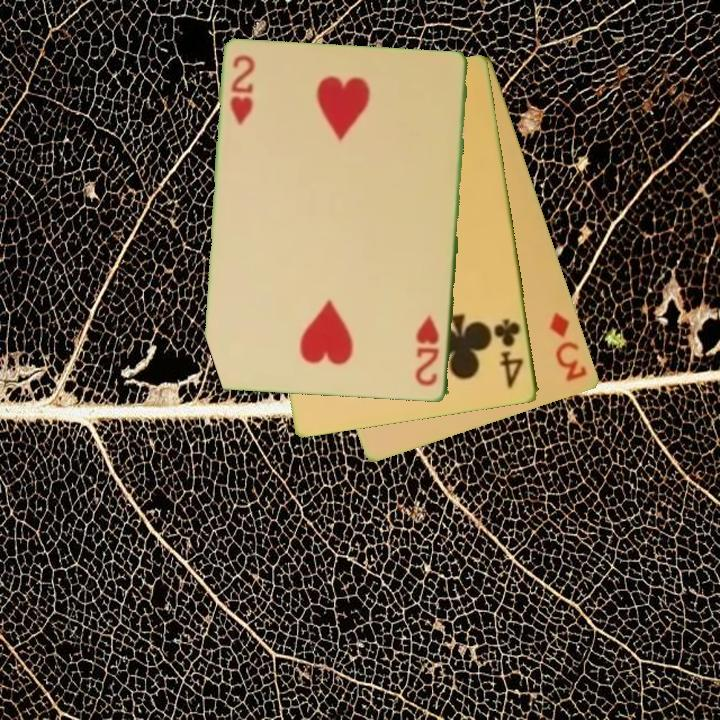2h: (227, 52, 258, 129), (413, 312, 442, 389)
3d: (545, 309, 591, 385)
4c: (491, 315, 527, 392)
